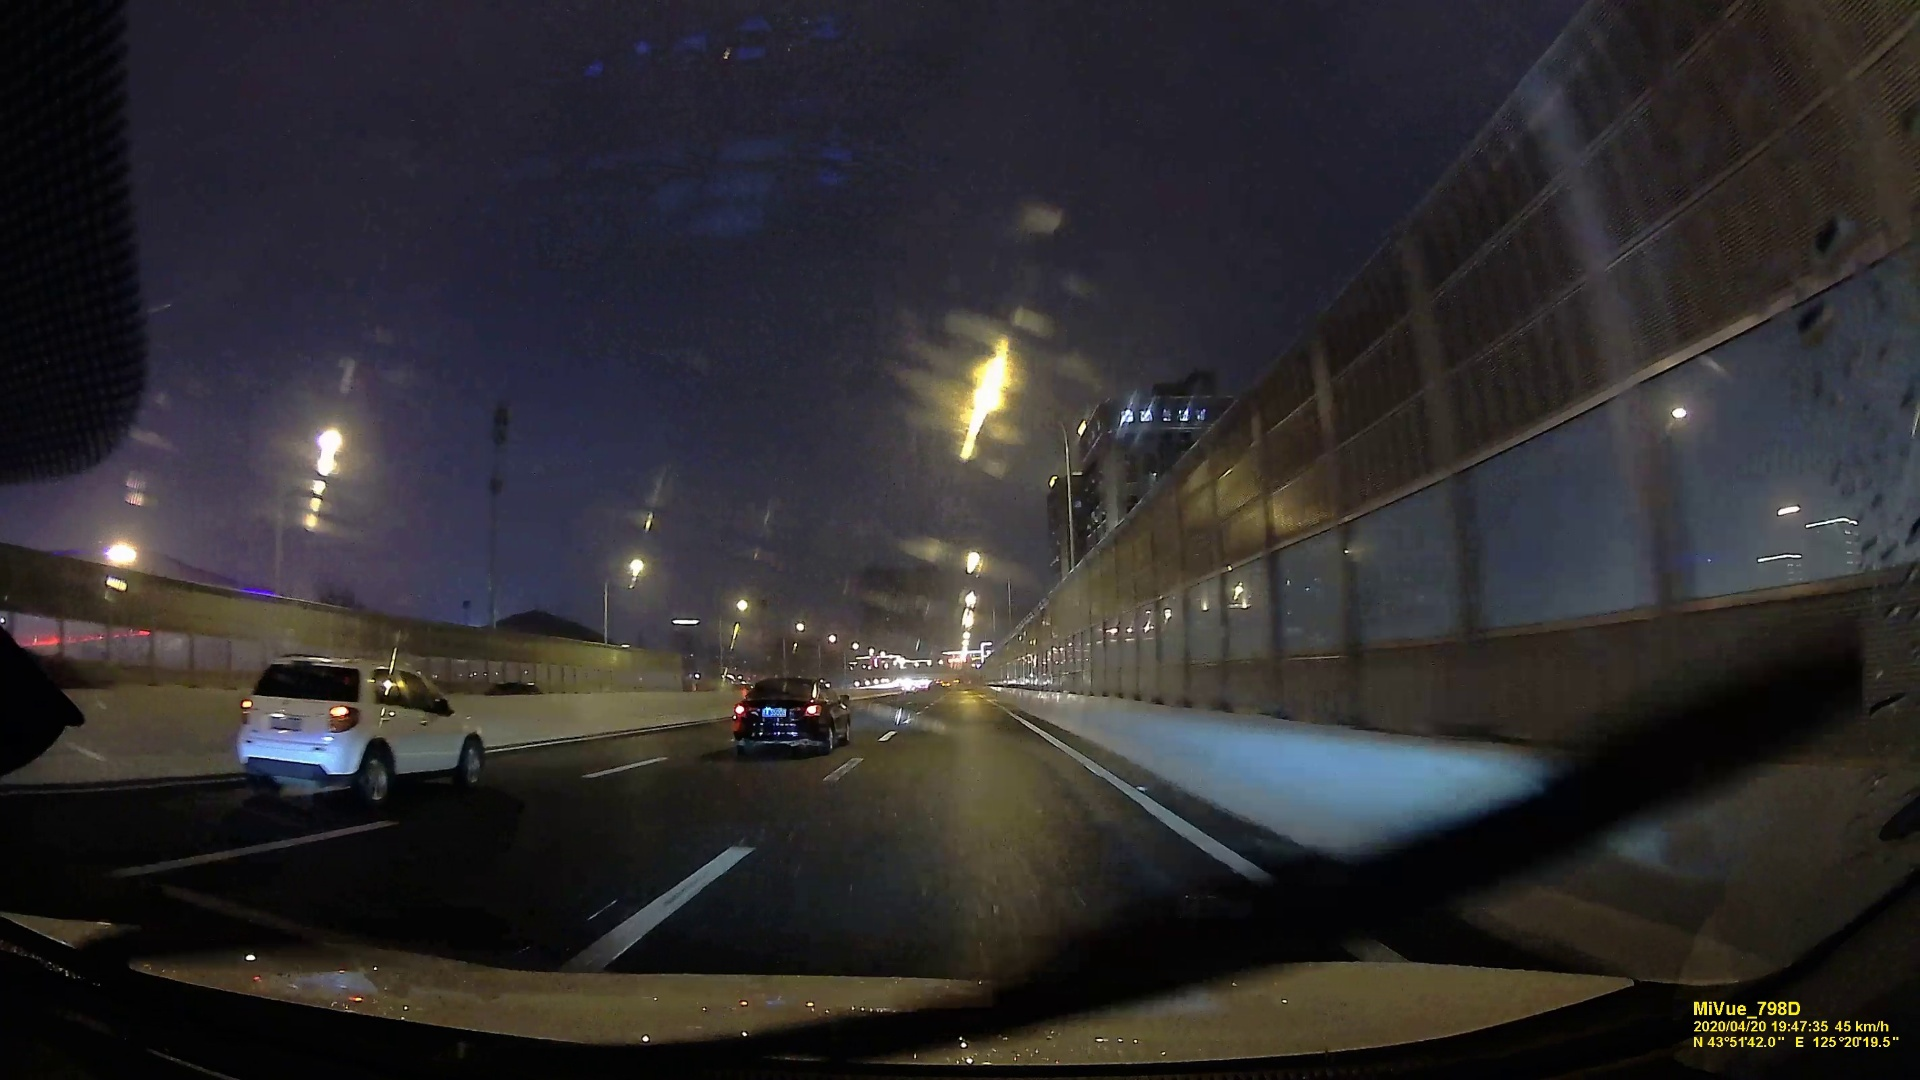vehicle: (225, 649, 489, 808), (729, 675, 853, 752)
